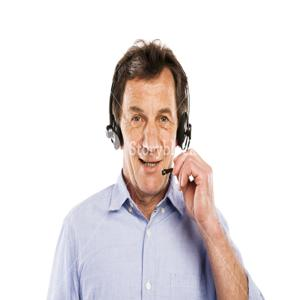Headphones: (103, 40, 193, 156)
